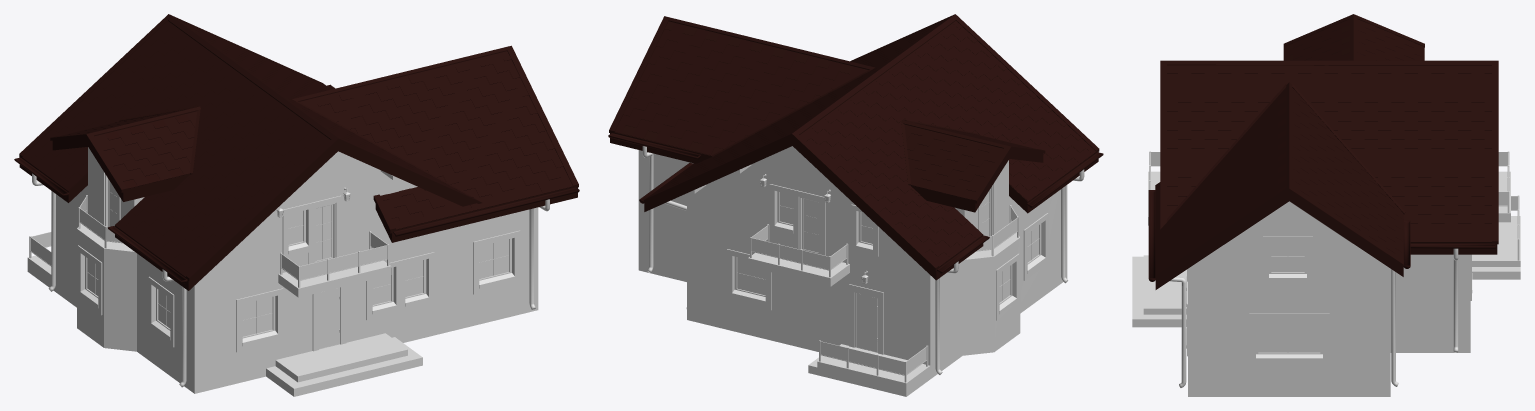
File: house.fbx
3 views of the same model, side by side, from view 1: azimuth 30°, elevation 25°; view 2: azimuth 150°, elevation 25°; view 3: azimuth 270°, elevation 25° (orthographic). The views are drawn at different scales.
Visible parts, largest first — view 1: house, door.014, door.002; view 2: house, door.003, door.005; view 3: house.
Part boxes in pixels (x1,y1,x2,y2): house: [14, 14, 579, 396]; door.014: [319, 288, 339, 348]; door.002: [315, 204, 333, 262]; house: [608, 14, 1103, 396]; door.003: [856, 293, 877, 352]; door.005: [802, 198, 818, 253]; house: [1132, 14, 1520, 396].
Size of the model in its own units: 2034 by 1155 by 1746.
